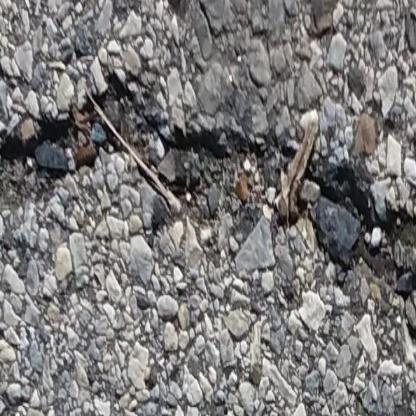Cracks: (0, 90, 416, 353)
